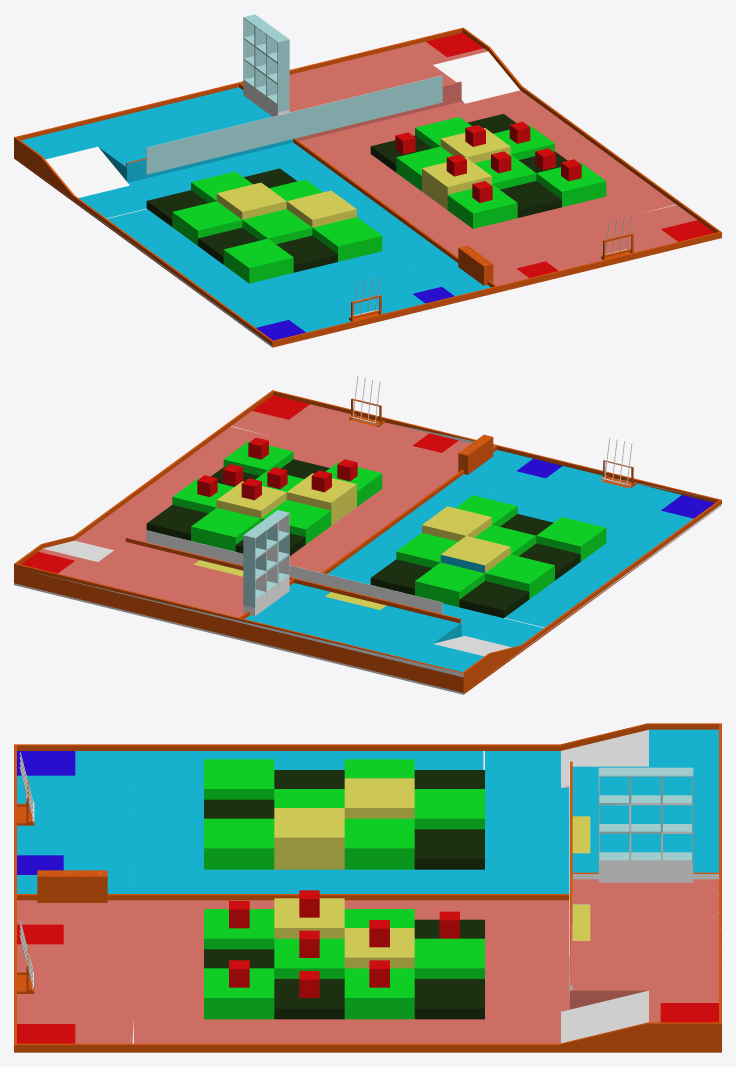
File: sanbong.dae
3 renders of one model, top to bottom at view 1: azimuth 30°, elevation 25°; view 2: azimuth 150°, elevation 25°; view 3: azimuth 270°, elevation 25°, orthographic. The views are drawn at different scales.
Parts seen in each view (by area): view 1: Game Field Robocon 2026; view 2: Game Field Robocon 2026; view 3: Game Field Robocon 2026.
Part boxes in pixels (x1,y1,x2,y2): Game Field Robocon 2026: [14, 14, 721, 347]; Game Field Robocon 2026: [14, 376, 721, 694]; Game Field Robocon 2026: [14, 723, 721, 1052].
Bounding box in the file's own units: 12.15 × 12.1 × 2.47.
